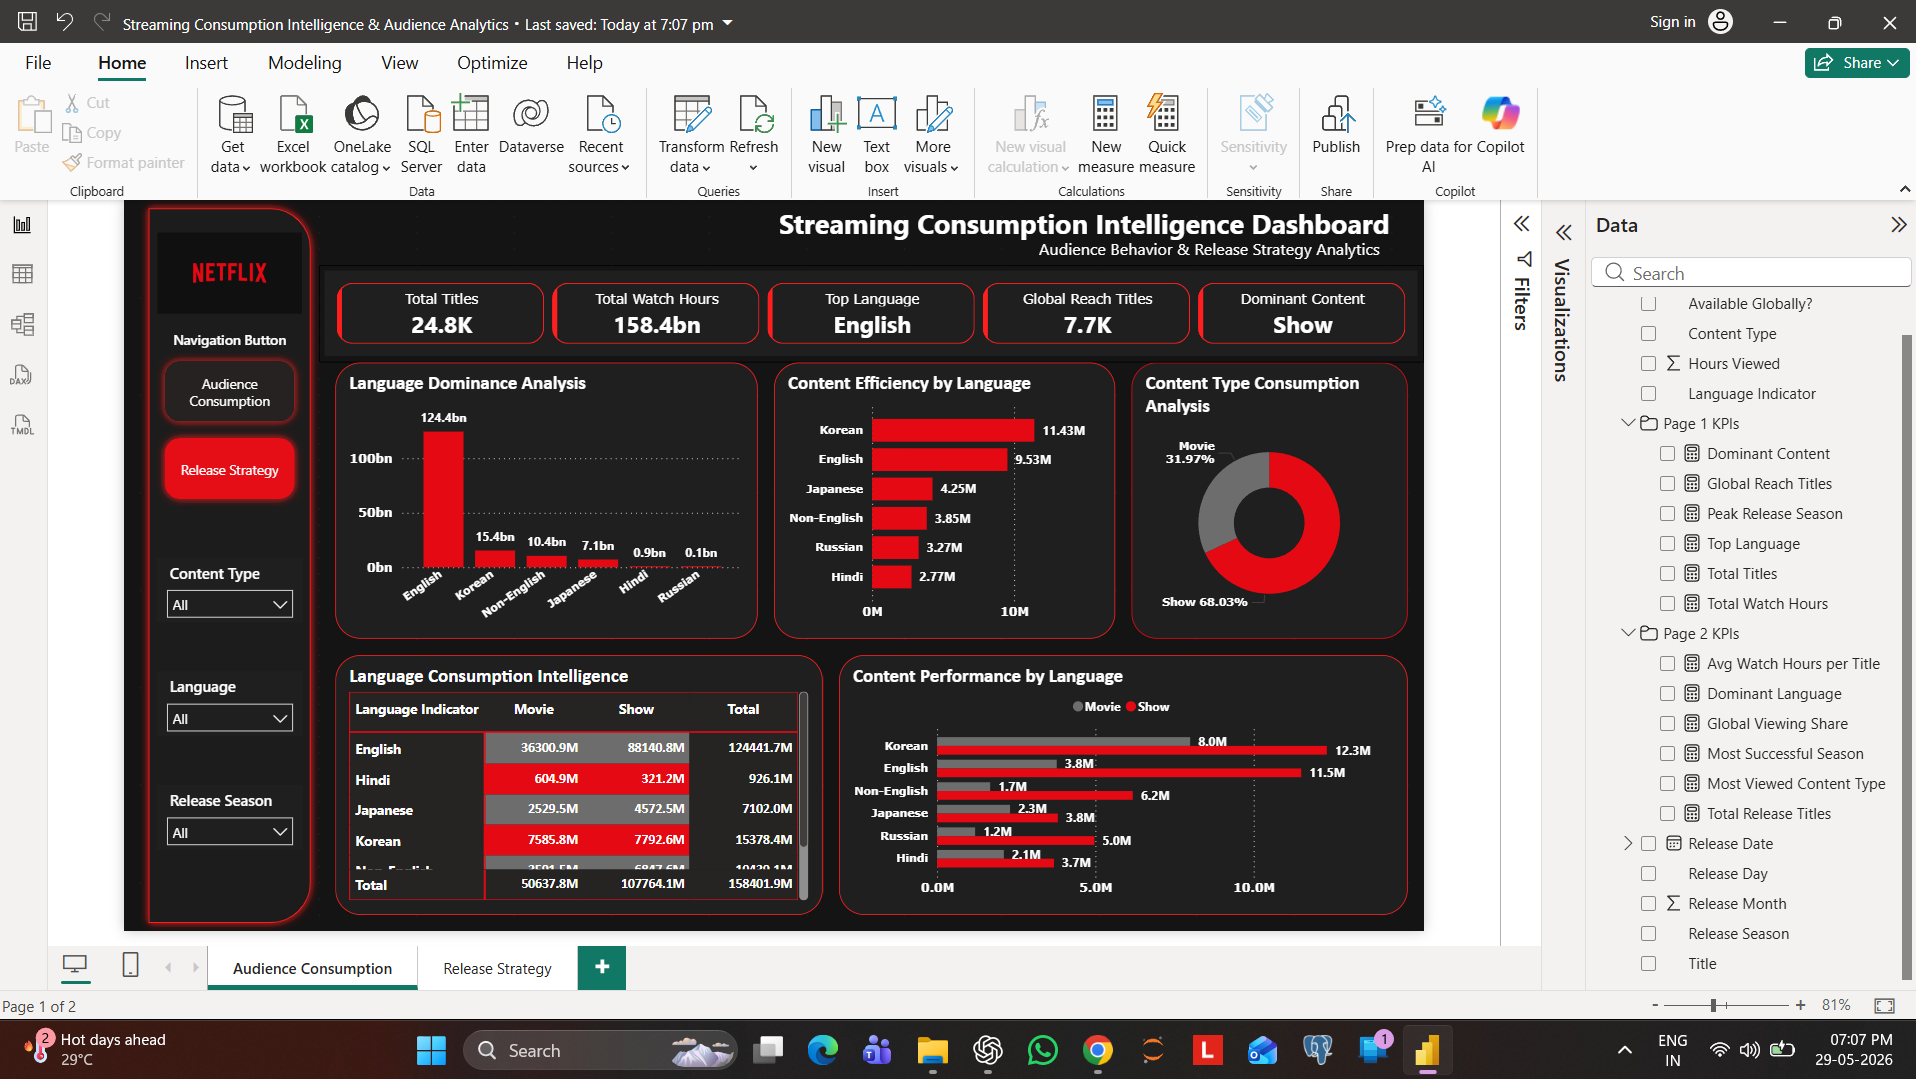

What the dashboard file says about the page in this screenshot:
{"tool":"powerbi","page":{"name":"Audience Consumption","canvas":[1280,720],"ordinal":0},"visuals":[{"type":"shape","box":[16,0,176,720],"z":0},{"type":"pivotTable","title":"Language Consumption Intelligence","fields":{"Rows":["streaming_consumption_intelligence.Language Indicator"],"Columns":["streaming_consumption_intelligence.Content Type"],"Values":["Sum(streaming_consumption_intelligence.Hours Viewed)"]},"box":[208,448,480,256],"z":1000},{"type":"donutChart","title":"Content Type Consumption Analysis","fields":{"Category":["streaming_consumption_intelligence.Content Type"],"Y":["Sum(streaming_consumption_intelligence.Hours Viewed)"]},"box":[992,160,272,272],"z":2000},{"type":"cardVisual","fields":{"Data":["streaming_consumption_intelligence.Total Titles","streaming_consumption_intelligence.Total Watch Hours","streaming_consumption_intelligence.Top Language","streaming_consumption_intelligence.Global Reach Titles","streaming_consumption_intelligence.Binge Dominant Content"]},"box":[192,64,1088,96],"z":3000},{"type":"slicer","fields":{"Values":["streaming_consumption_intelligence.Content Type"]},"box":[32,352,144,64],"z":4000},{"type":"slicer","fields":{"Values":["streaming_consumption_intelligence.Language Indicator"]},"box":[32,464,144,64],"z":5000},{"type":"pageNavigator","title":"Navigation Button","box":[32,128,144,176],"z":6000},{"type":"textbox","box":[640,0,624,48],"z":7000},{"type":"textbox","box":[896,32,368,32],"z":8000},{"type":"image","box":[32,32,144,80],"z":9000},{"type":"slicer","fields":{"Values":["streaming_consumption_intelligence.Release Season"]},"box":[32,576,144,64],"z":10000},{"type":"clusteredColumnChart","title":"Language Dominance Analysis","fields":{"Y":["Sum(streaming_consumption_intelligence.Hours Viewed)"],"Category":["streaming_consumption_intelligence.Language Indicator"]},"box":[208,160,416,272],"z":11000},{"type":"clusteredBarChart","title":"Content Performance by Language","fields":{"Category":["streaming_consumption_intelligence.Language Indicator"],"Y":["Avg(streaming_consumption_intelligence.Hours Viewed)"],"Series":["streaming_consumption_intelligence.Content Type"]},"box":[704,448,560,256],"z":14000},{"type":"barChart","title":"Content Efficiency by Language","fields":{"Category":["streaming_consumption_intelligence.Language Indicator"],"Y":["streaming_consumption_intelligence.Avg Watch Hours per Title"]},"box":[640,160,336,272],"z":14003}]}

Visuals, with their boxes on the page's 1280x720 design canvas (x1, y1, x2, y2). These are canvas units, not pixel positions in the 1916x1079 screenshot, which may show the page scaled, cropped or inside an application window:
shape: [left=16, top=0, right=192, bottom=720]
"Language Consumption Intelligence" pivotTable: [left=208, top=448, right=688, bottom=704]
"Content Type Consumption Analysis" donutChart: [left=992, top=160, right=1264, bottom=432]
cardVisual - streaming_consumption_intelligence.Total Titles x streaming_consumption_intelligence.Total Watch Hours: [left=192, top=64, right=1280, bottom=160]
slicer - streaming_consumption_intelligence.Content Type: [left=32, top=352, right=176, bottom=416]
slicer - streaming_consumption_intelligence.Language Indicator: [left=32, top=464, right=176, bottom=528]
"Navigation Button" pageNavigator: [left=32, top=128, right=176, bottom=304]
textbox: [left=640, top=0, right=1264, bottom=48]
textbox: [left=896, top=32, right=1264, bottom=64]
image: [left=32, top=32, right=176, bottom=112]
slicer - streaming_consumption_intelligence.Release Season: [left=32, top=576, right=176, bottom=640]
"Language Dominance Analysis" clusteredColumnChart: [left=208, top=160, right=624, bottom=432]
"Content Performance by Language" clusteredBarChart: [left=704, top=448, right=1264, bottom=704]
"Content Efficiency by Language" barChart: [left=640, top=160, right=976, bottom=432]
